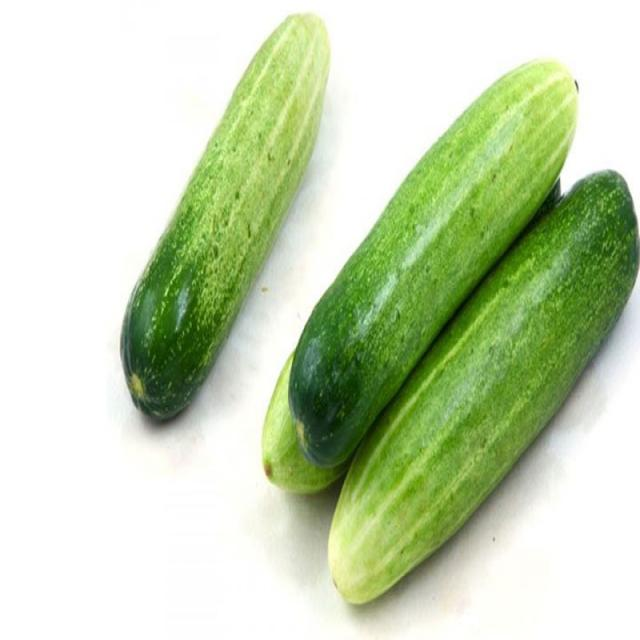cucumber: (262, 54, 638, 606), (121, 11, 330, 422)
